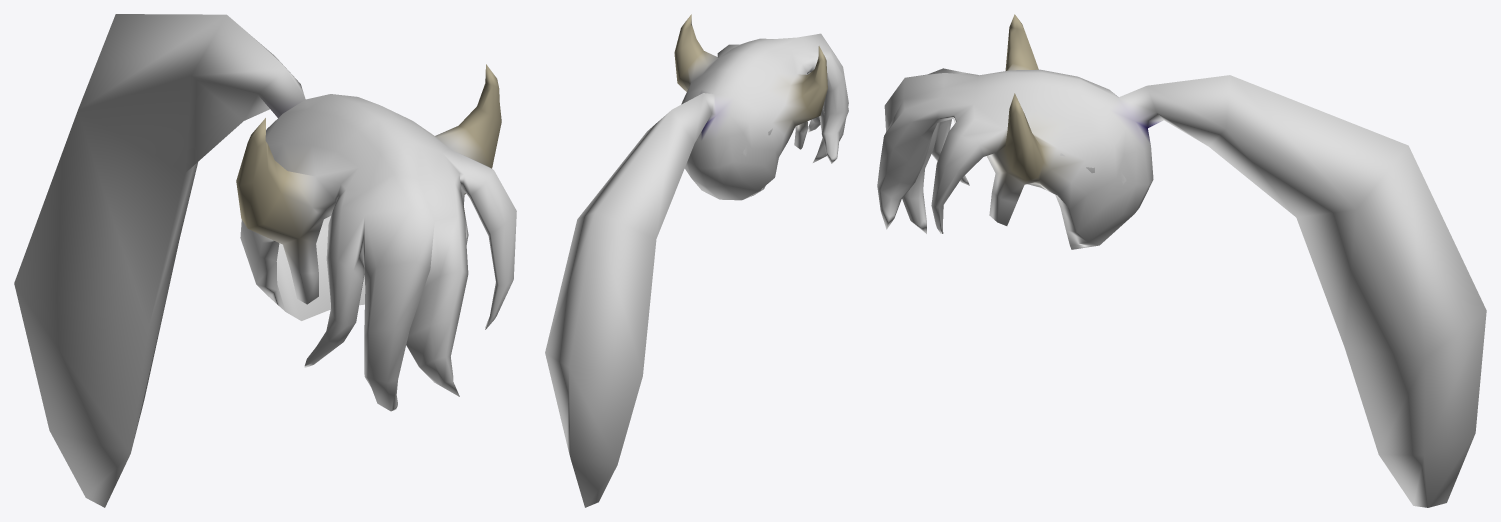
Rendered from irisHair.fbx.
The picture shows the model from 3 angles, left to right: view 1: azimuth 30°, elevation 25°; view 2: azimuth 150°, elevation 25°; view 3: azimuth 270°, elevation 25°; orthographic projection. The views are drawn at different scales.
Visible parts, largest first — view 1: irisHair; view 2: irisHair; view 3: irisHair.
Part boxes in pixels (x1,y1,x2,y2): irisHair: (14,14,516,507); irisHair: (545,14,848,507); irisHair: (877,14,1486,507).
Bounding box in the file's own units: 39.91 × 89.85 × 110.
